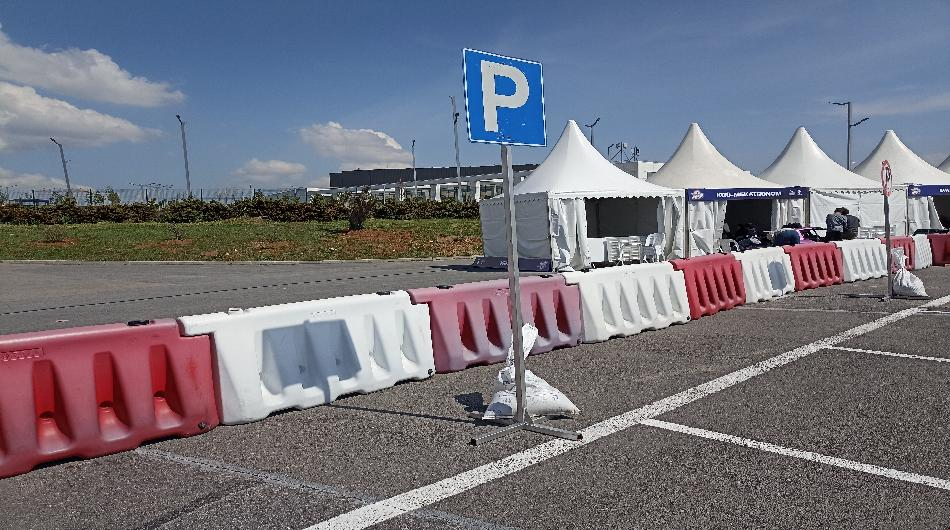park: (460, 46, 550, 150)
